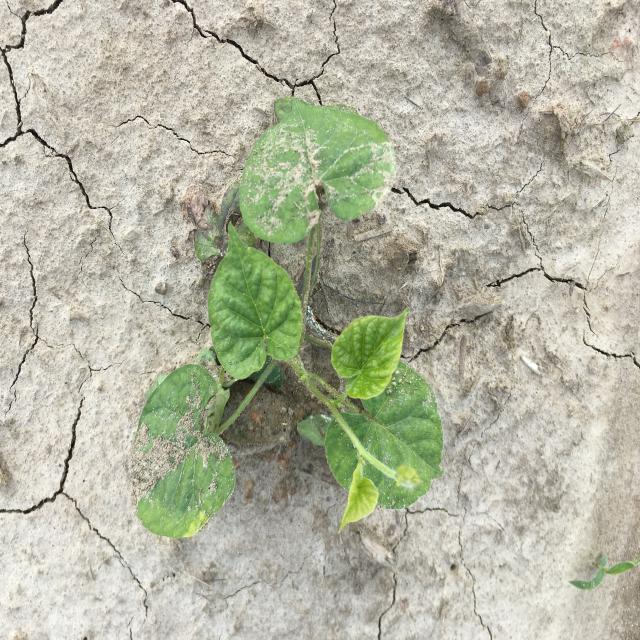MorningGlory: (129, 95, 446, 539)
